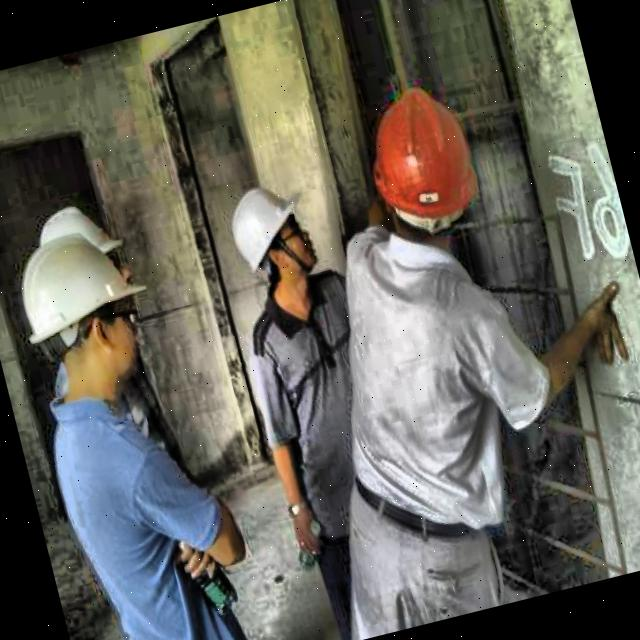helmet: (8, 221, 168, 415), (351, 78, 492, 262), (216, 170, 330, 308), (28, 195, 138, 322)
